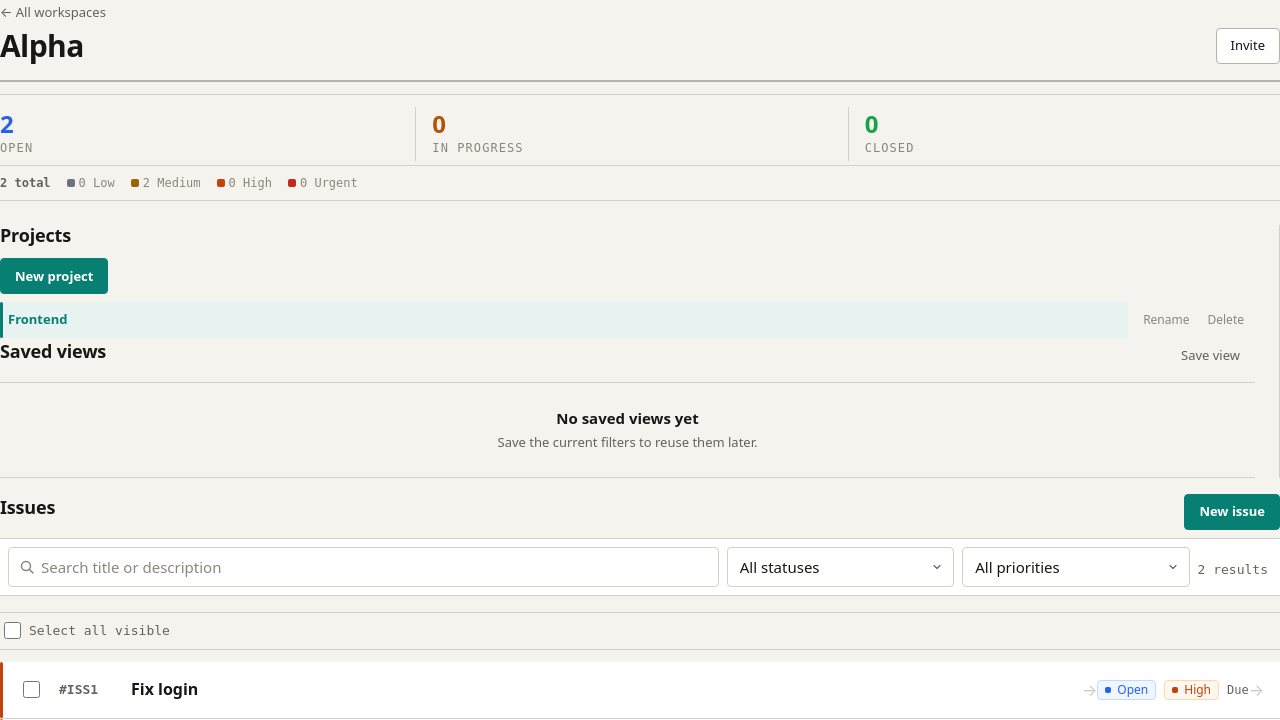
WorkspacePage bulk actions › applies one bulk request and clears the selection
The width and height of the screenshot is (1280, 720).
Expected: the text "Fix login" is shown, [131,678,198,700]
Click the checkbox named "Select Fix login" at (32, 690), box [23,681,40,698]
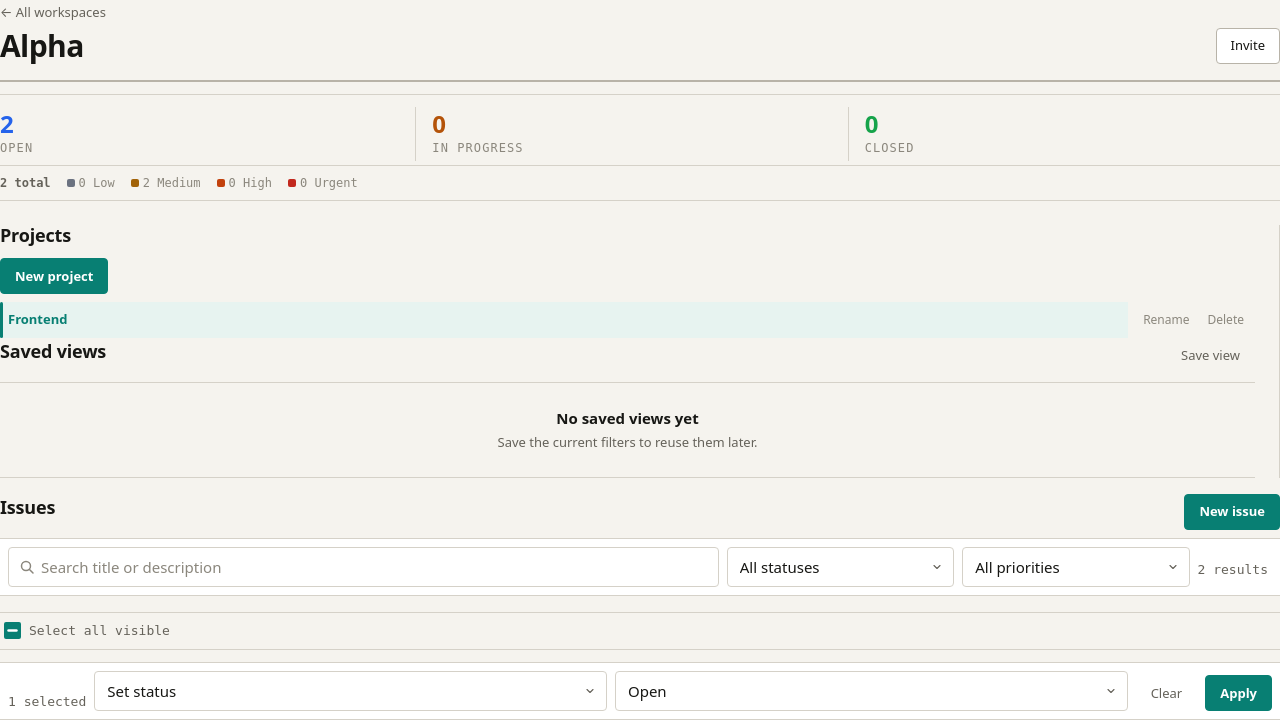
Click the button "Apply" at (1239, 693), box [1205,675,1272,711]
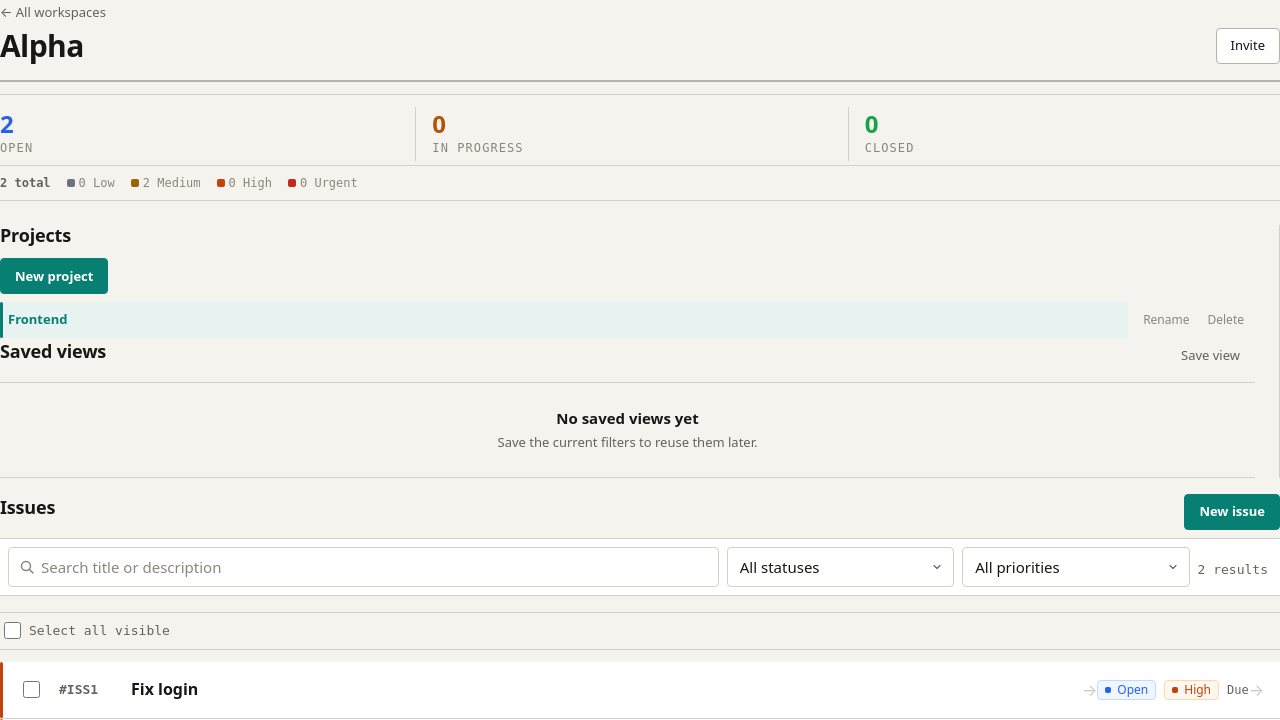
Expected: the dropdown labelled "Action" is not shown
Result: the text "1 selected" is gone
